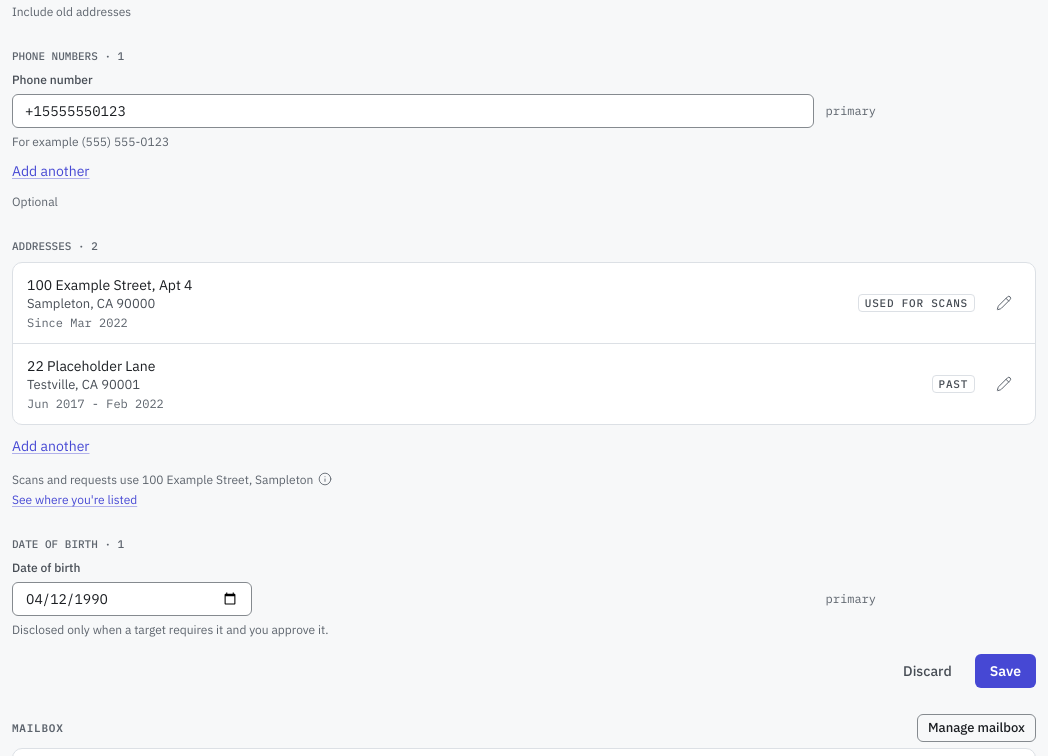
Test: the profile page › keeps a past address's range and state when it is opened
(page scrolled)
Click the button named "Edit address 2": (1004, 384) [987,367,1021,401]
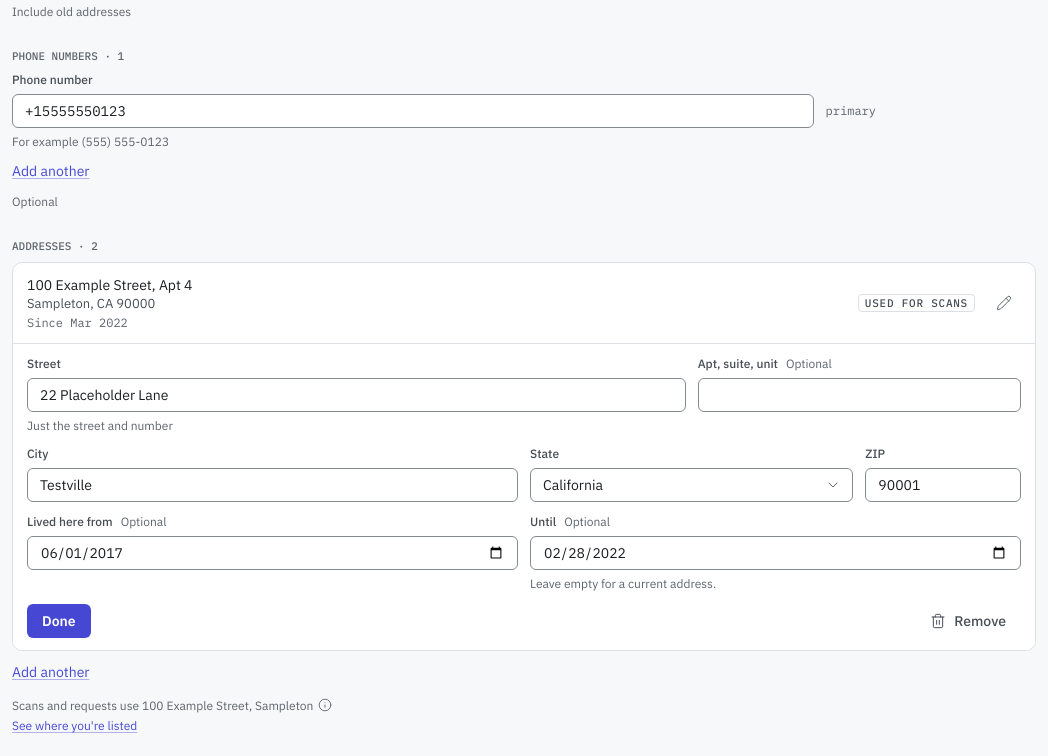
Expected: the date field labelled "Lived here from Optional" holds "2017-06-01", [27,536,518,570]
Expected: the date field labelled "Until Optional" holds "2022-02-28", [530,536,1021,570]
Expected: the dropdown labelled "State" shows "California", [530,468,853,502]
